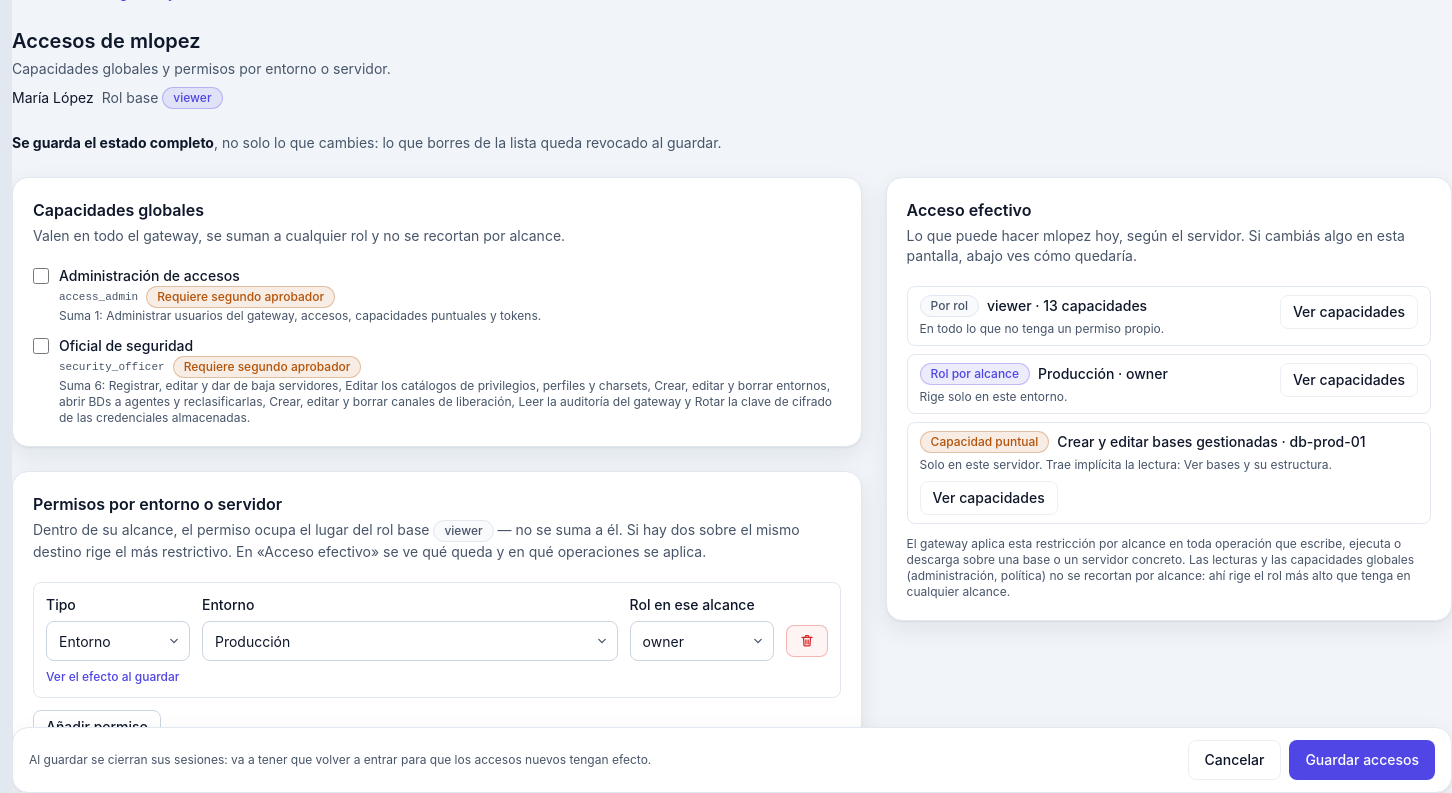
GatewayUserAccessPage › con cambios sin guardar agrega la vista previa rotulada, sin reemplazar lo del servidor
The image size is (1452, 793).
Expected: the text "Rol por alcance" is shown, [920,363,1030,385]
What coordinates should you click on to do the following:
click the checkbox labelled "Administración de accesos"
I would click on:
 (41, 276)
Its box is [33,268,49,284].
(page scrolled)
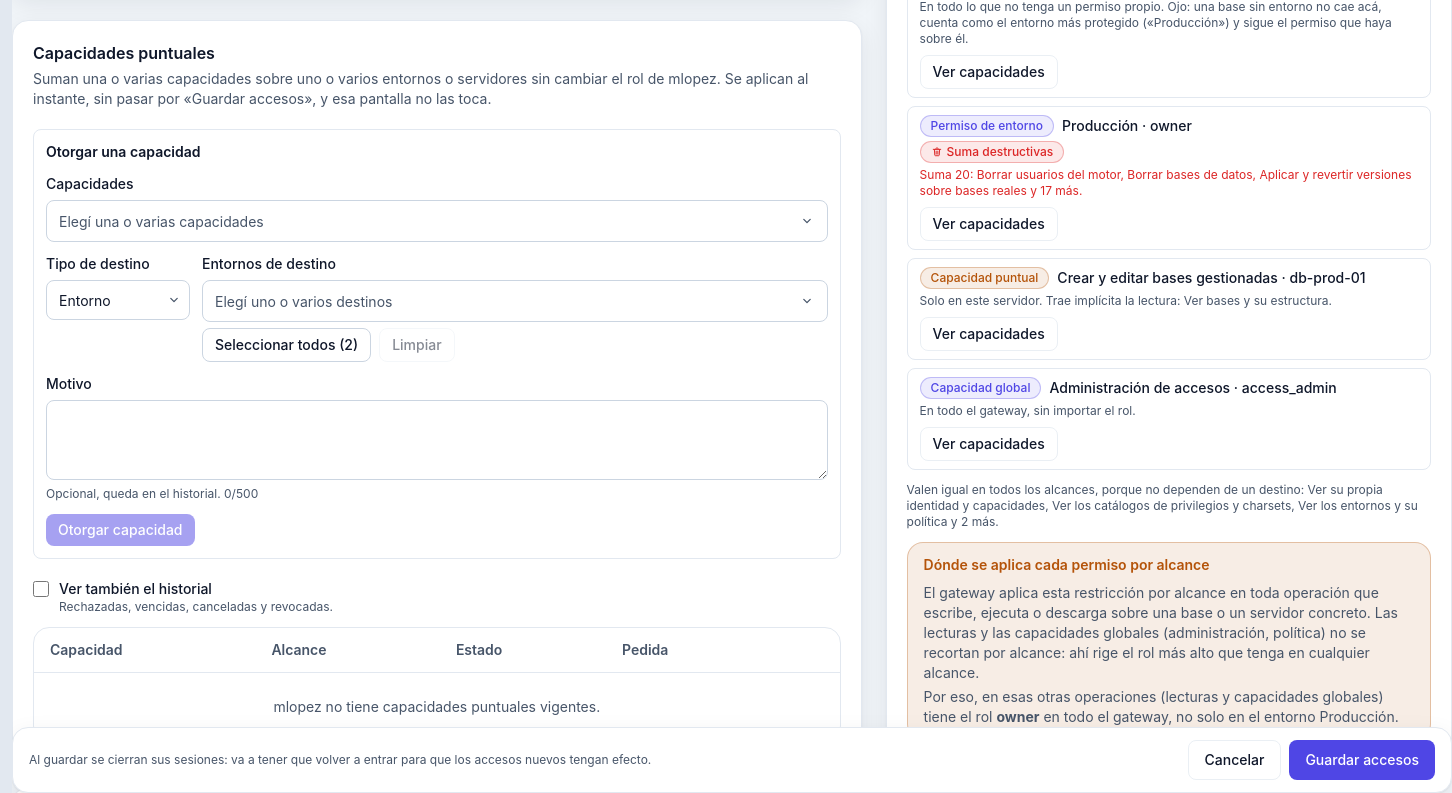
Now the text "Capacidad global" is shown, box [920,377,1041,399]
Now the number of buttons "Ver capacidades de Crear y editar bases gestionadas · db-prod-01" is 2
